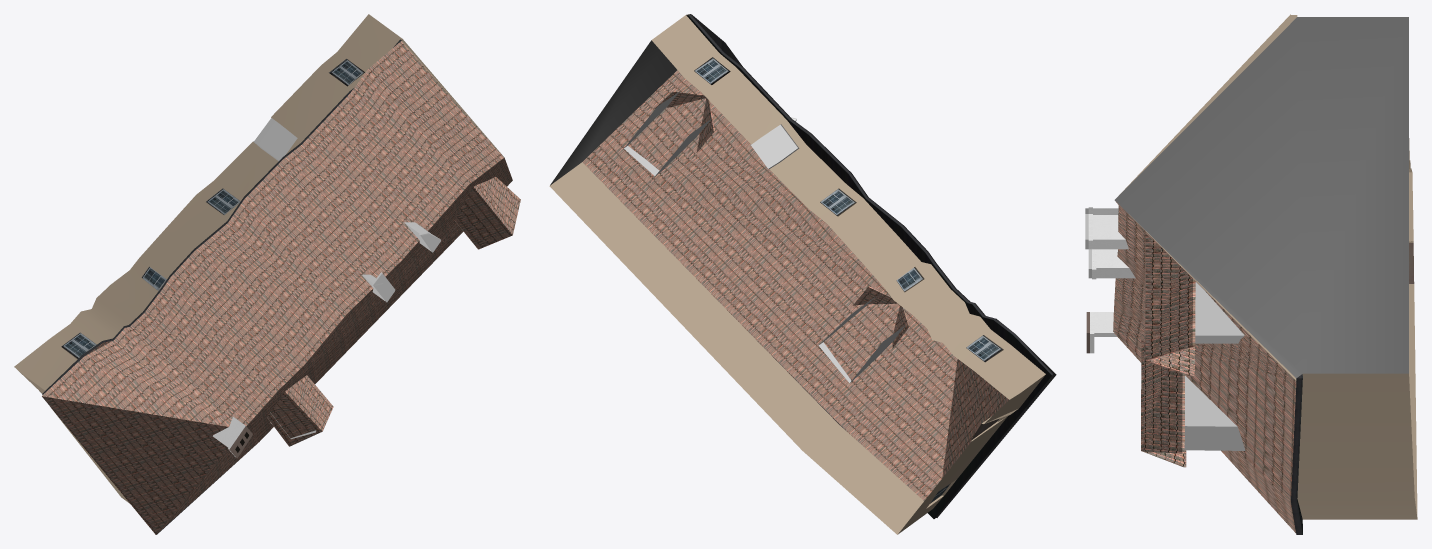
The model's file is Toom-Ryytli-2-origo.obj.
3 renders of one model, left to right at view 1: azimuth 30°, elevation 25°; view 2: azimuth 150°, elevation 25°; view 3: azimuth 270°, elevation 25°, orthographic. The views are drawn at different scales.
Visible parts, largest first — view 1: Toom_Ryytli_2; view 2: Toom_Ryytli_2; view 3: Toom_Ryytli_2.
Boxes of the visible parts, bbox=[...] form: Toom_Ryytli_2: bbox=[14, 14, 520, 534]; Toom_Ryytli_2: bbox=[549, 14, 1056, 534]; Toom_Ryytli_2: bbox=[1085, 14, 1417, 534].
Bounding box in the file's own units: 25 × 22 × 9.26.
